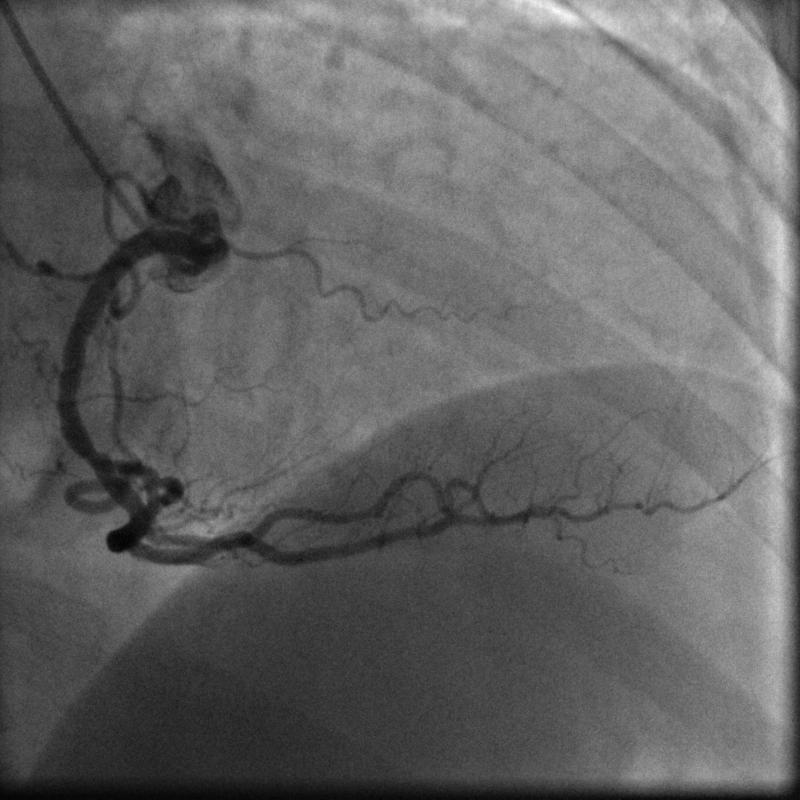Stenosis: (64, 445, 133, 479)
